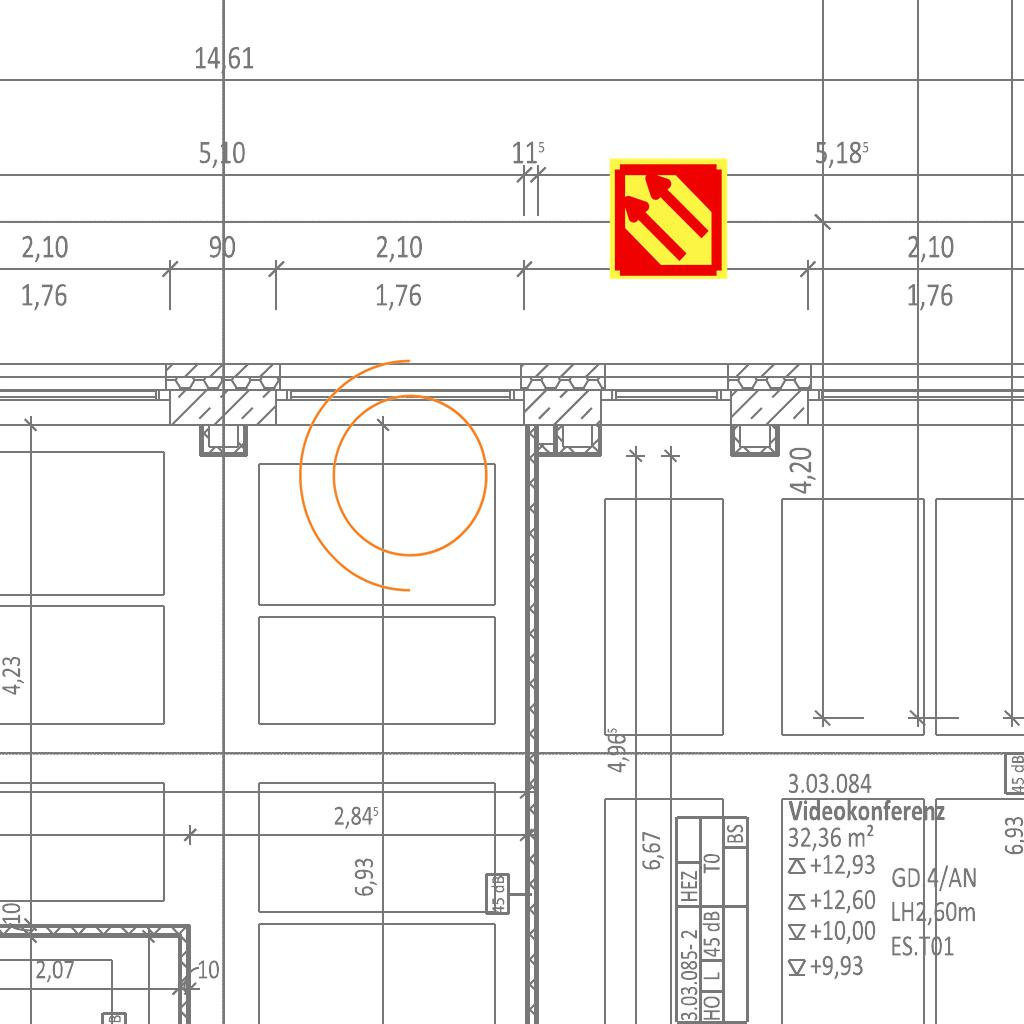ASR_Ansaugrauchmelder: (606, 156, 731, 281)
Scheinwerfer_fuer_Alarmbeleuchtung: (288, 350, 513, 614)
